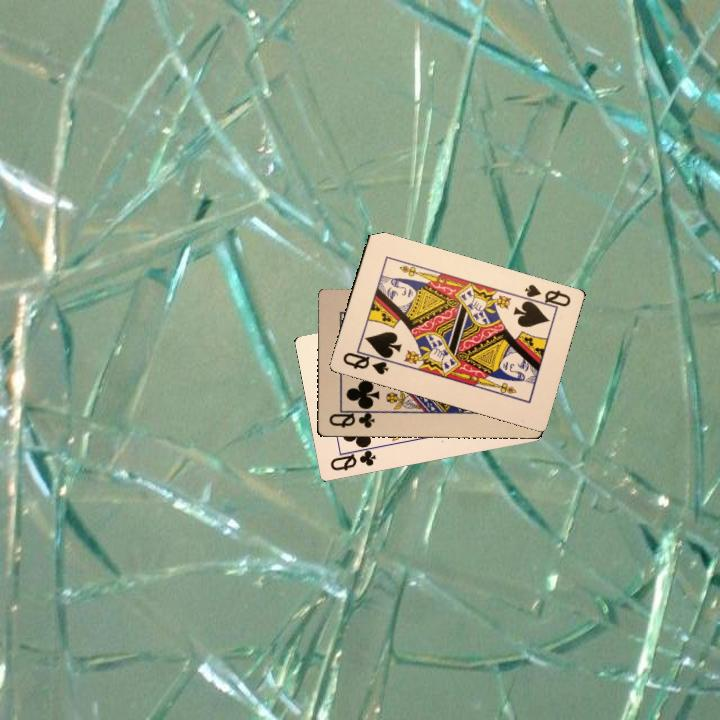Qc: (326, 443, 378, 473), (325, 406, 379, 430)
Qs: (519, 280, 573, 313), (339, 346, 395, 377)
